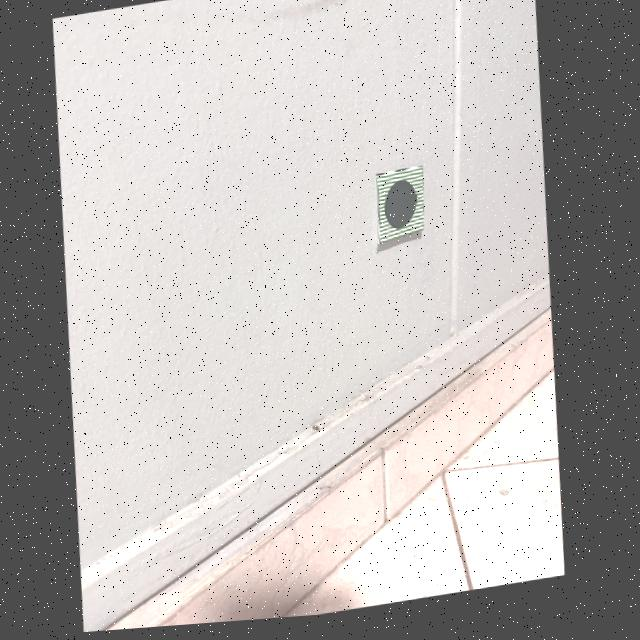CIRCLE: (387, 186, 418, 234)
